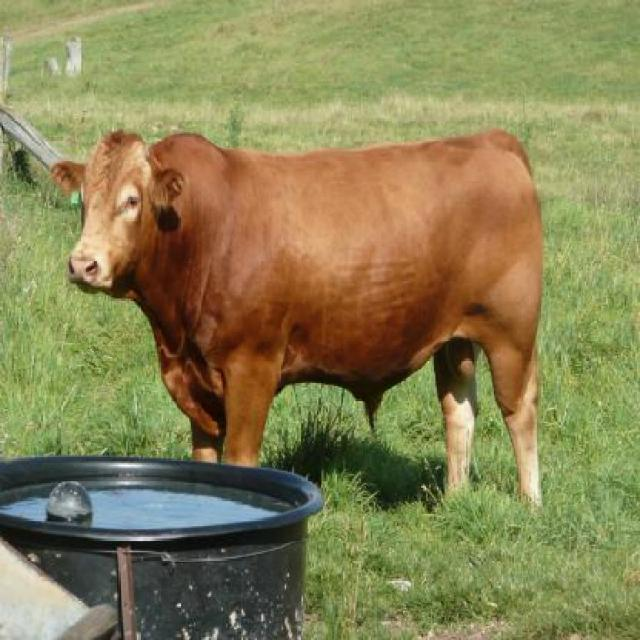Cow: (52, 126, 546, 519)
